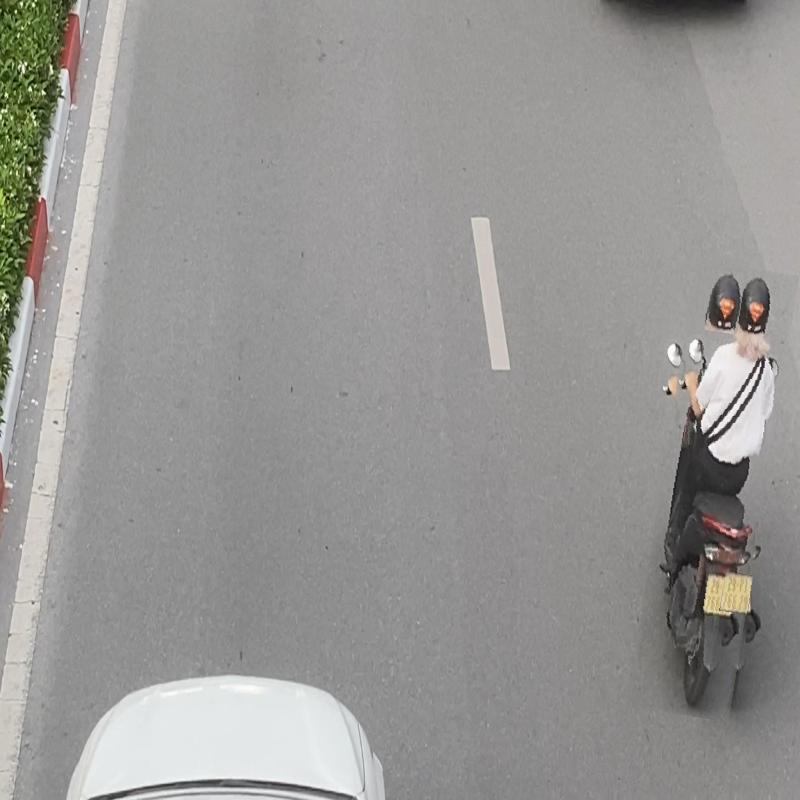helmet: (706, 270, 744, 333)
licenseplate: (720, 572, 752, 614)
motorcyclist: (644, 262, 782, 720)
